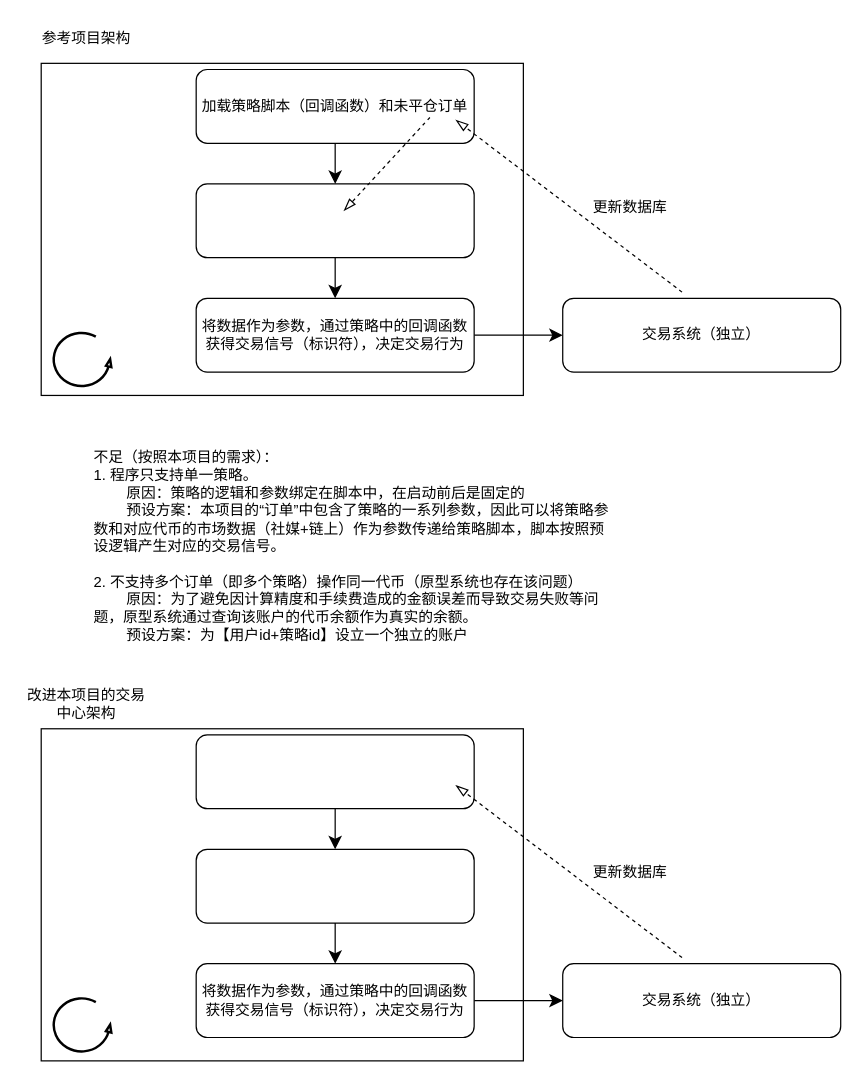
This 862x1082 diagram has some shape labels left out. Each missing label, with the centre of its shape:
"加载市场数据（K线图等）" goes at (x=334, y=220).
"加载市场数据（社媒+链上）" goes at (x=334, y=885).
"加载未平仓订单" goes at (x=334, y=771).
